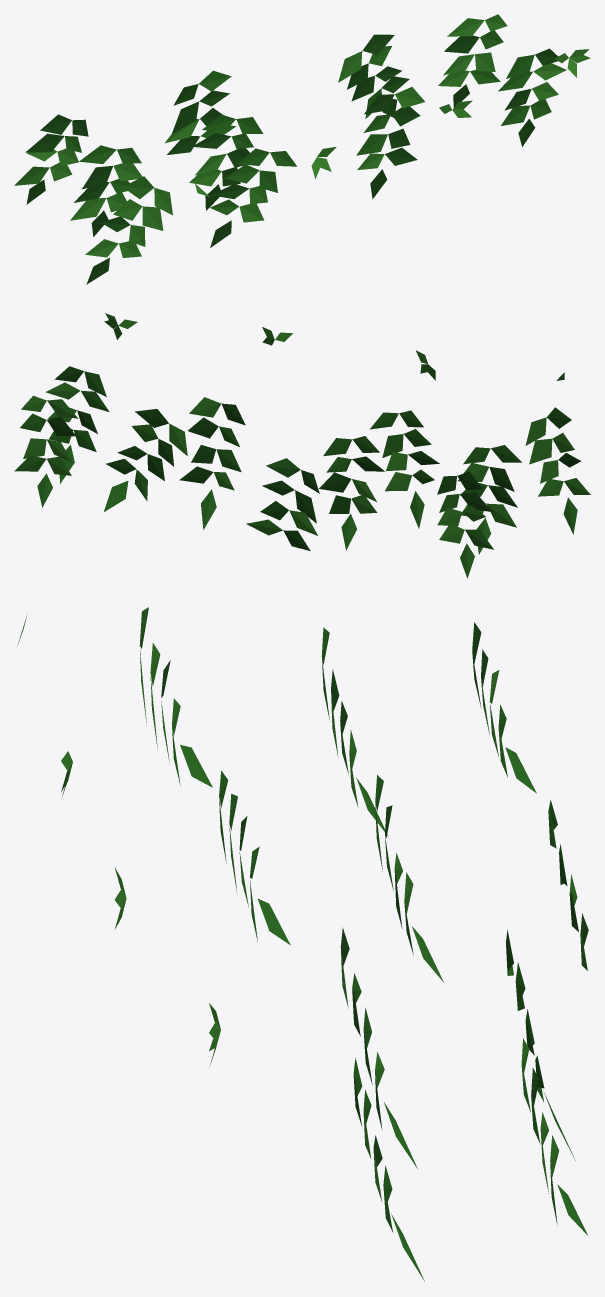
3 views of the same model, one above another, from view 1: azimuth 30°, elevation 25°; view 2: azimuth 150°, elevation 25°; view 3: azimuth 270°, elevation 25° (orthographic). The views are drawn at different scales.
Parts seen in each view (by area): view 1: r15c5_l11; view 2: r15c5_l11; view 3: r15c5_l11.
Boxes of the visible parts, bbox=[...] form: r15c5_l11: bbox=[14, 14, 590, 284]; r15c5_l11: bbox=[14, 313, 590, 578]; r15c5_l11: bbox=[17, 607, 588, 1281].
Bounding box in the file's own units: 2.18 × 0.6326 × 1.09.
